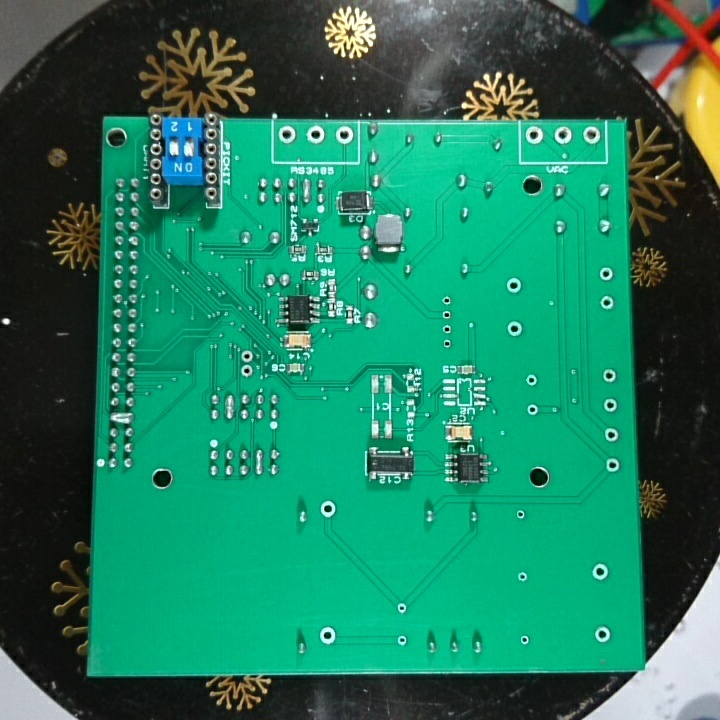F: (589, 558, 615, 585), (551, 123, 575, 150), (581, 123, 603, 151), (505, 316, 527, 344), (590, 622, 615, 646), (523, 123, 546, 149), (601, 423, 624, 447), (314, 498, 339, 520), (333, 123, 354, 149), (304, 123, 327, 146), (504, 275, 526, 299), (278, 123, 299, 146), (601, 392, 621, 416), (604, 455, 624, 478), (600, 366, 621, 387), (524, 370, 544, 391), (524, 401, 546, 420), (596, 261, 618, 280), (318, 623, 340, 642), (439, 333, 459, 353), (599, 293, 619, 312), (237, 364, 259, 379), (393, 632, 411, 649), (394, 599, 410, 617), (439, 292, 456, 308), (239, 348, 256, 364), (516, 631, 534, 646), (513, 507, 529, 523), (439, 305, 456, 320), (440, 320, 455, 337), (515, 568, 530, 585)
P: (110, 410, 136, 429), (223, 392, 238, 423), (301, 175, 315, 207), (253, 447, 266, 477)
